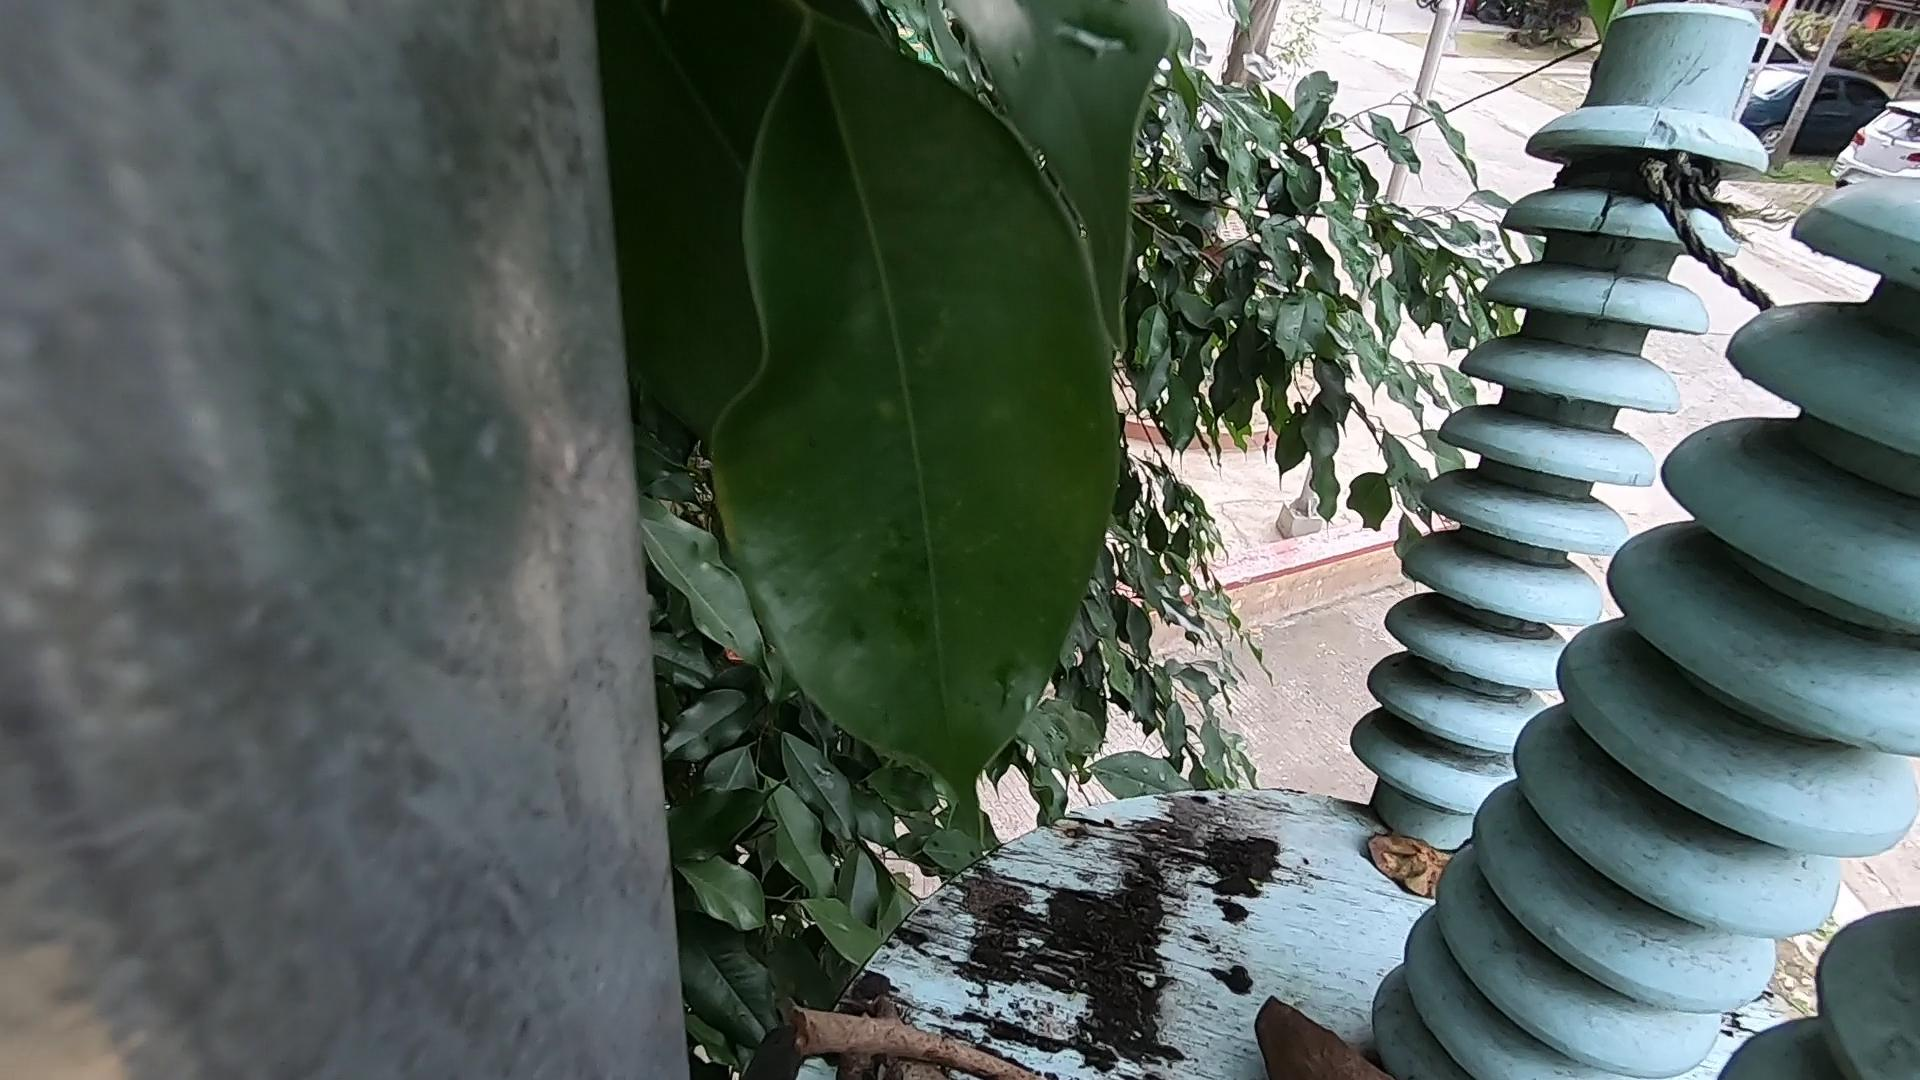branch with leaves: (764, 1007, 1058, 1080)
leaf: (1364, 796, 1472, 913)
mahogany fruit: (1232, 971, 1365, 1080)
